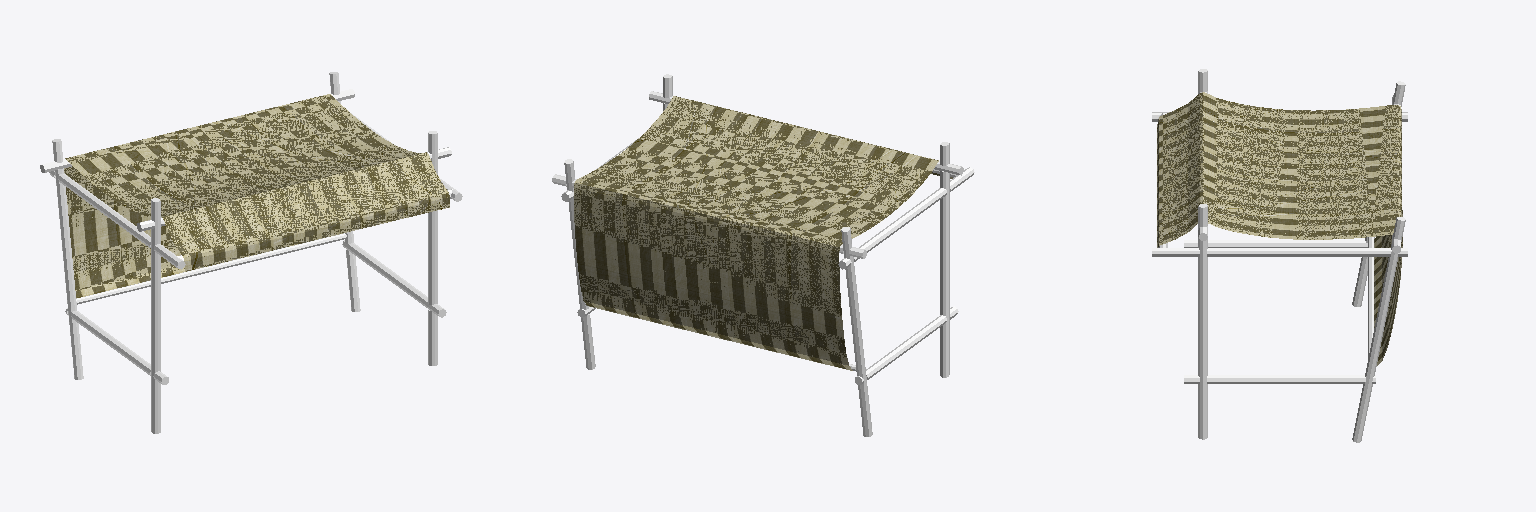
The picture shows the model from 3 angles: view 1: azimuth 30°, elevation 25°; view 2: azimuth 150°, elevation 25°; view 3: azimuth 270°, elevation 25°; orthographic projection.
Parts seen in each view (by area): view 1: bothmesh; view 2: bothmesh; view 3: bothmesh.
Part boxes in pixels (bbox=[...]): bothmesh: bbox=[40, 72, 462, 433]; bothmesh: bbox=[552, 74, 974, 436]; bothmesh: bbox=[1152, 69, 1407, 442].
Bounding box in the file's own units: 5.6 × 4.06 × 4.
Materials: 2 (1 with a texture image).